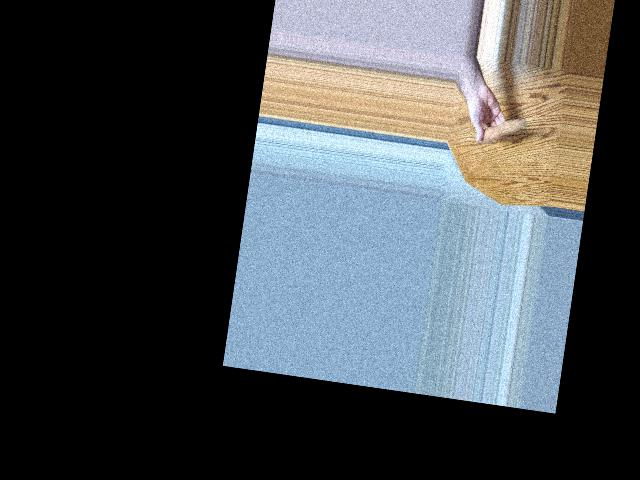sweet_potato: (473, 108, 529, 150)
